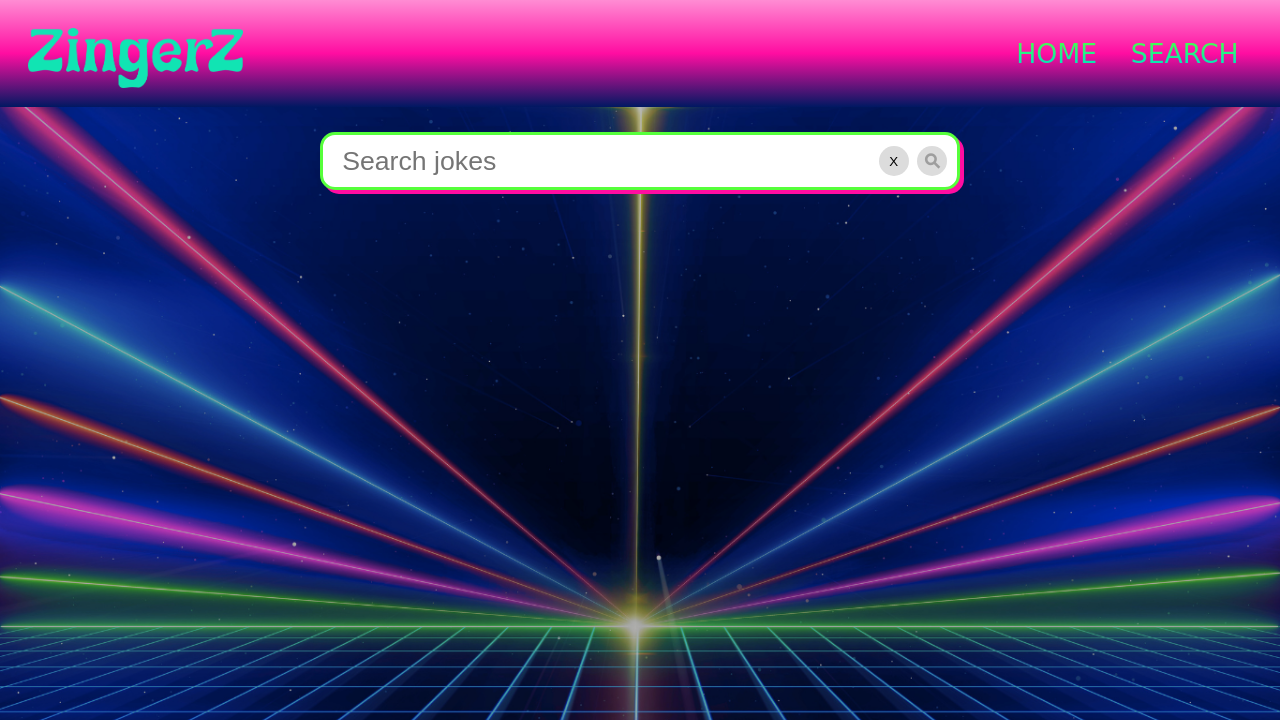
Test: search view › should be able to go back home
Click the link to "/".
click(1061, 54)  # box [1016,38,1105,69]
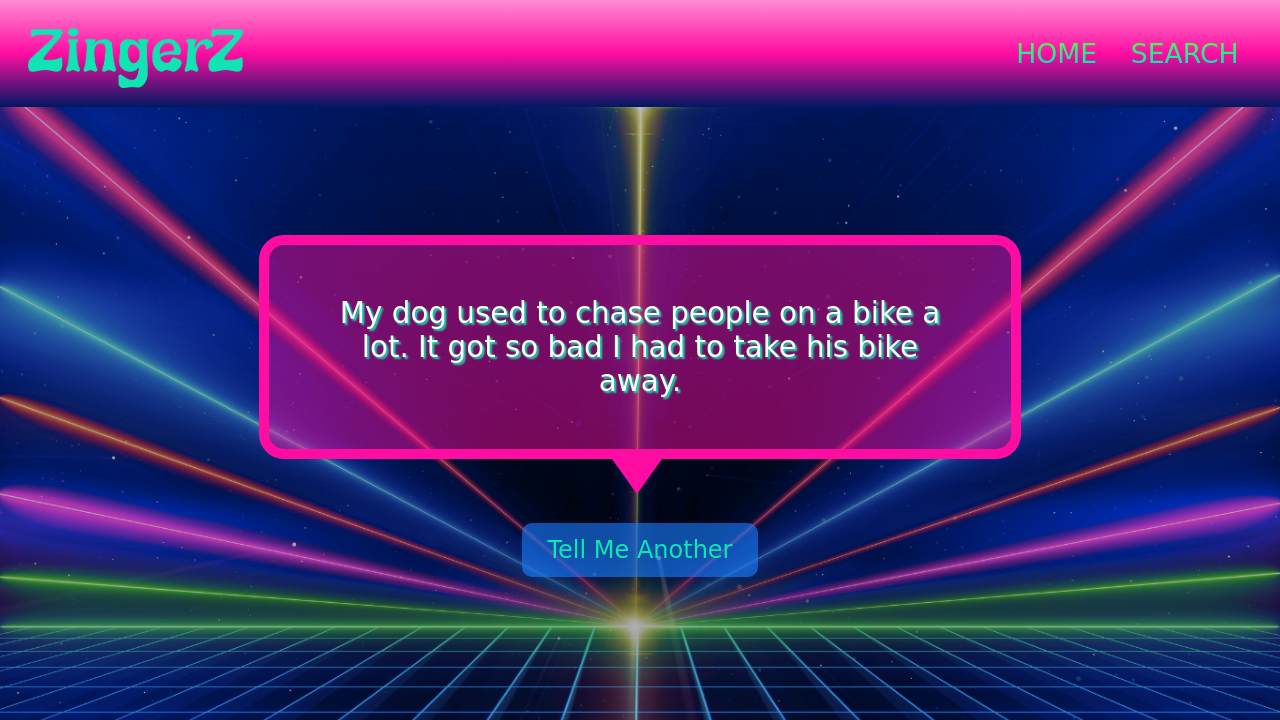
Check: the text with class "main-joke" is shown, box [259,235,1021,459]
